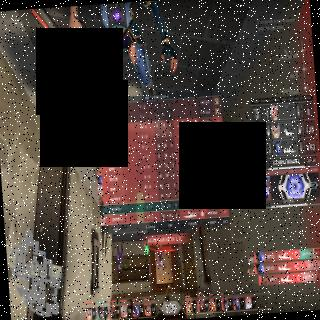ENEMY-BODY: (115, 238, 126, 276), (156, 243, 163, 271)
ENEMY-HEAD: (158, 264, 162, 270), (119, 268, 122, 274)
